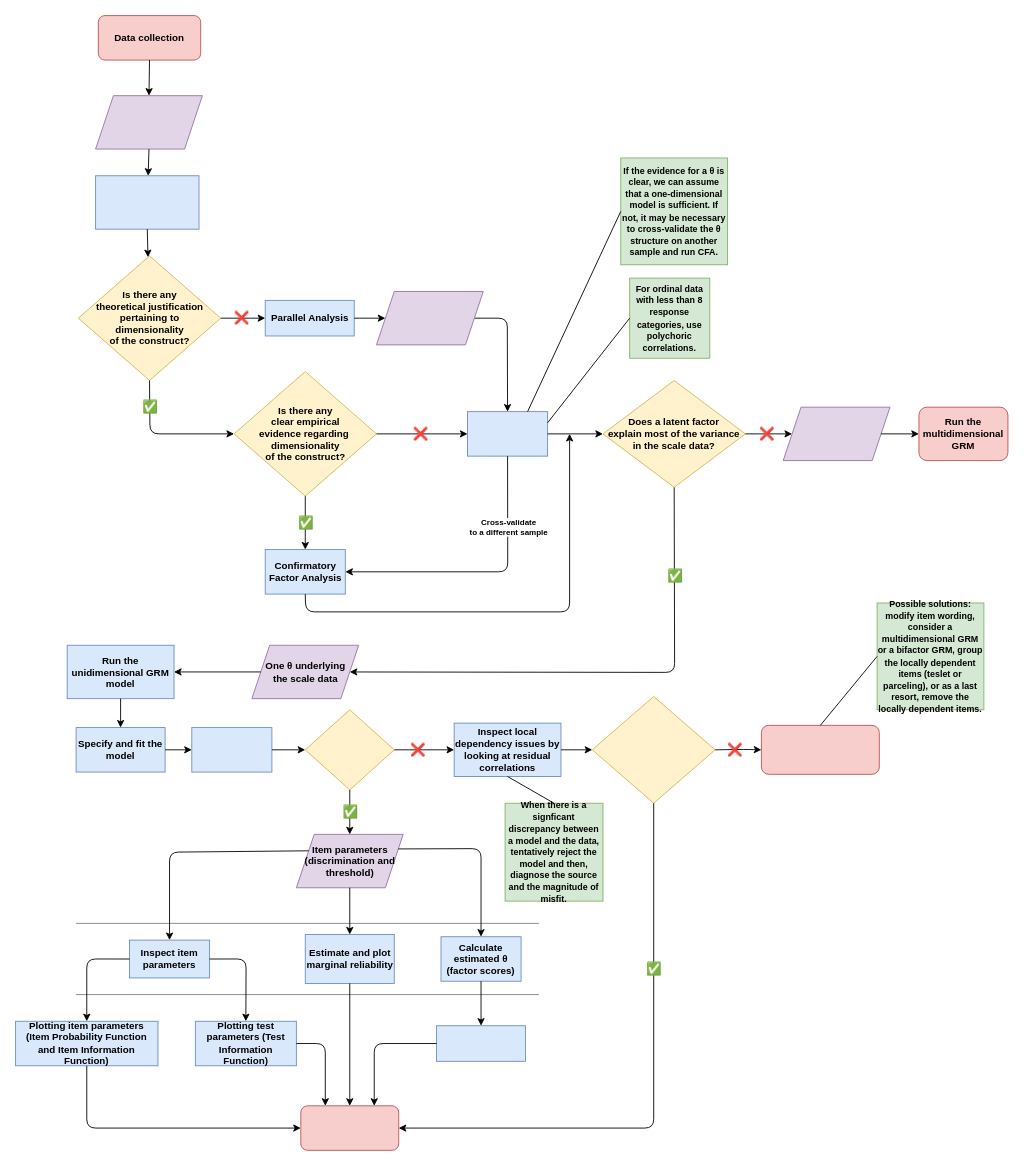
This 1024x1166 diagram has some shape labels left out. The shapes that lost their labels are listed below. From the top down, each one's centre as x and y in pixels, then its label:
At point (148, 122): "Polytomous ordinal scale data".
At point (147, 202): "Test measurement precision at the item and person level".
At point (429, 318): "The number of suggested latent factors".
At point (507, 433): "Exploratory Factor Analysis".
At point (836, 433): "Multiple latent factors underlying the scale data".
At point (231, 749): "Evaluate item and model fit".
At point (349, 749): "Does the model fit the data?".
At point (653, 749): "Can the magnitude of misfit be deemed inconsequential?".
At point (820, 749): "Modify the scale and/or respecify the model".
At point (481, 1043): "Calculate empirical reliability".
At point (349, 1127): "Retain and interpret the model".
